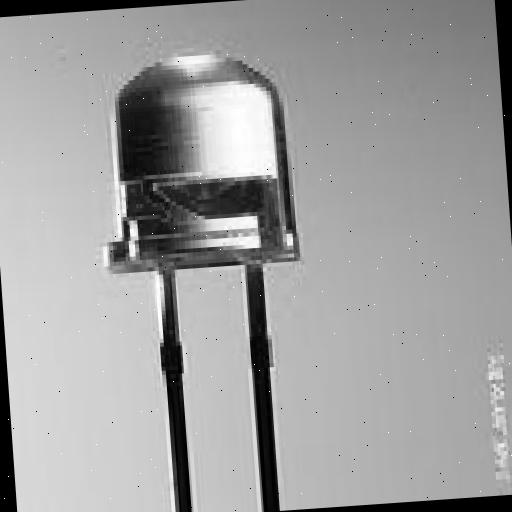LED: (87, 37, 317, 512)
